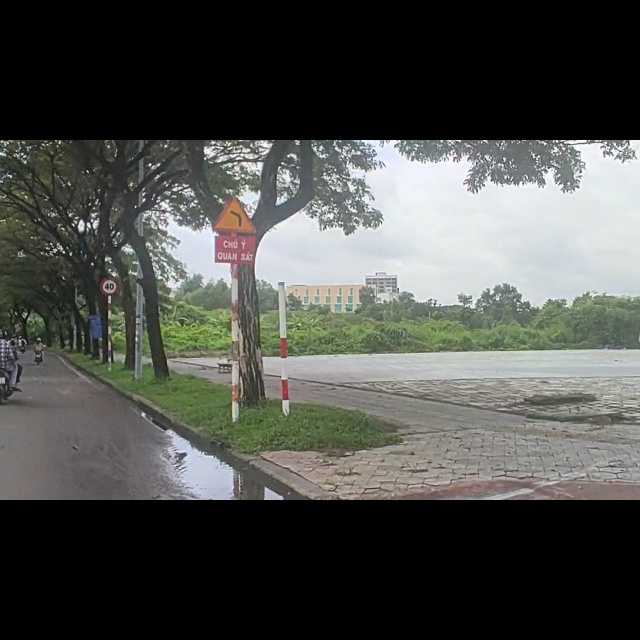bien_nguy_hiem: (212, 98, 260, 167), (100, 243, 121, 275)
